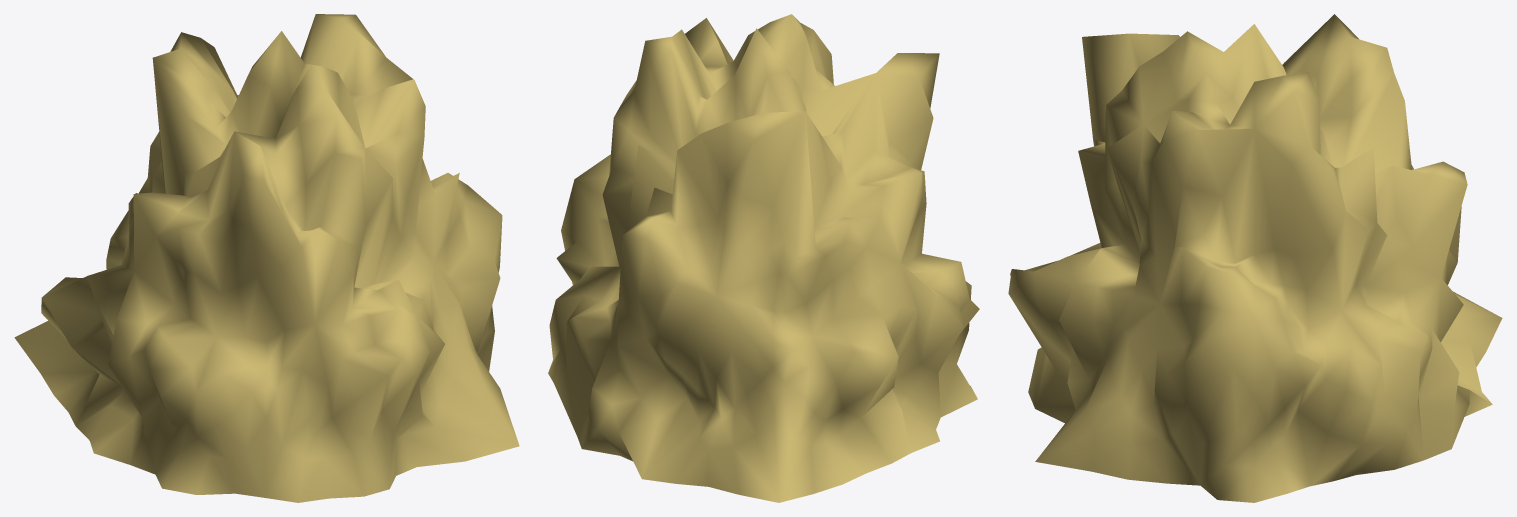
The model's file is batu karang sedang.fbx.
The picture shows the model from 3 angles, left to right: view 1: azimuth 30°, elevation 25°; view 2: azimuth 150°, elevation 25°; view 3: azimuth 270°, elevation 25°; orthographic projection. The views are drawn at different scales.
Parts seen in each view (by area): view 1: Icosphere.006; view 2: Icosphere.006; view 3: Icosphere.006.
Part boxes in pixels (left/top/right/bottom): Icosphere.006: left=14, top=14, right=519, bottom=502; Icosphere.006: left=548, top=14, right=979, bottom=502; Icosphere.006: left=1008, top=14, right=1502, bottom=502.
Size of the model in its own units: 715 by 678 by 768.
